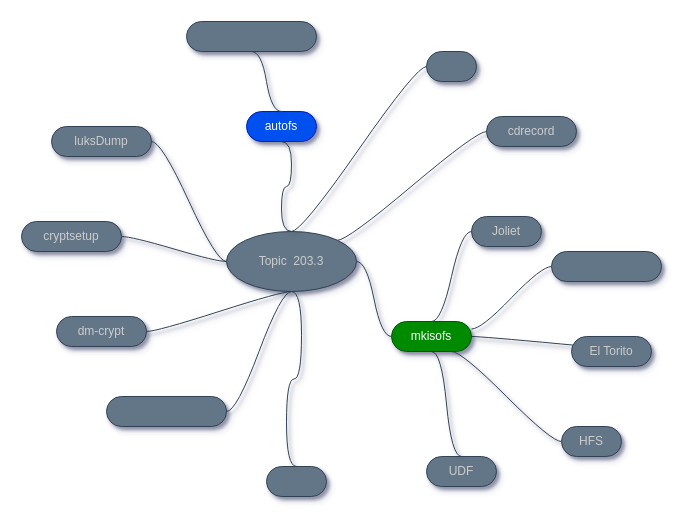
Some shapes in this 691 by 527 pixel diagram are drawn without their labels. Each missing label, with the centre of its shape:
/etc/auto.master: pixel 252 37
dd: pixel 452 67
Device Mapper: pixel 167 413
luks: pixel 297 483
Rock Ridge,: pixel 607 267
